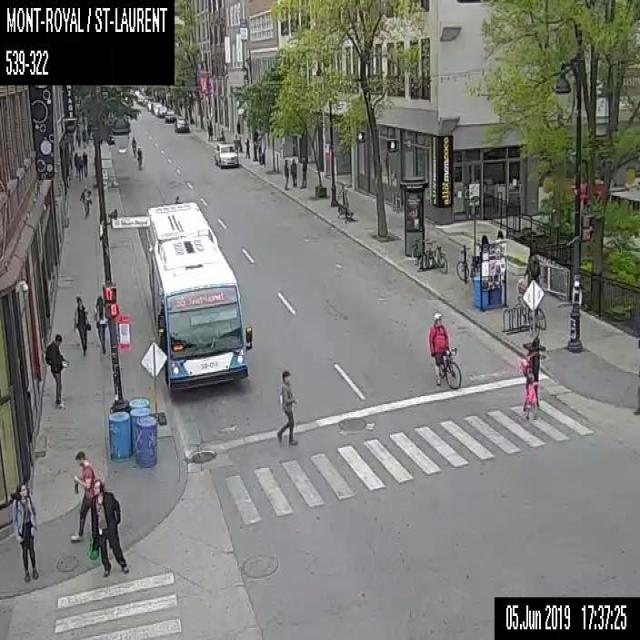bus: (141, 199, 253, 392)
cyclist: (425, 311, 462, 389), (136, 147, 142, 168), (130, 135, 136, 154)
pedestrian: (86, 478, 128, 576), (12, 478, 37, 582), (70, 449, 95, 543), (44, 333, 68, 408), (276, 368, 298, 444), (521, 334, 541, 411), (73, 293, 91, 355), (524, 370, 540, 420), (92, 295, 105, 353), (524, 245, 542, 283), (79, 184, 92, 216), (299, 160, 307, 189), (282, 158, 288, 190), (290, 157, 296, 186), (206, 117, 213, 140), (73, 151, 78, 177), (77, 154, 82, 179), (244, 137, 249, 160), (82, 150, 86, 176)
vehicle: (213, 141, 238, 168), (112, 116, 129, 132), (174, 116, 188, 131), (151, 100, 162, 114), (164, 110, 175, 121), (157, 105, 167, 116), (136, 92, 144, 103), (146, 100, 154, 109)
